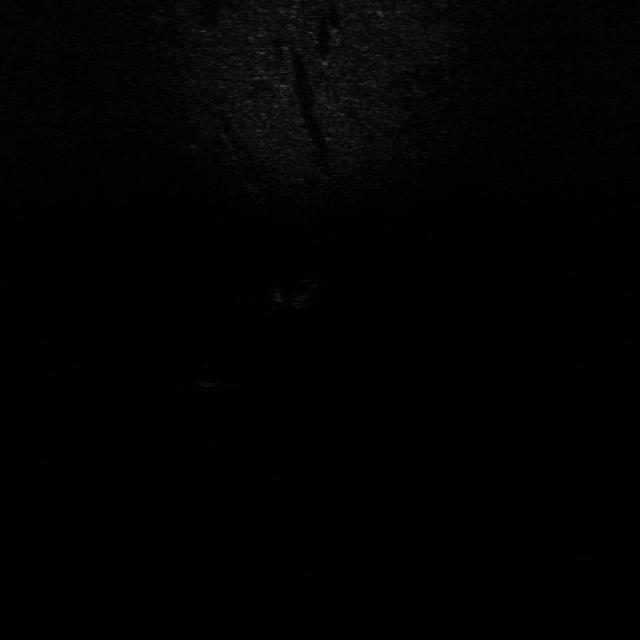ball: (193, 364, 221, 388)
human body: (270, 278, 324, 308)
